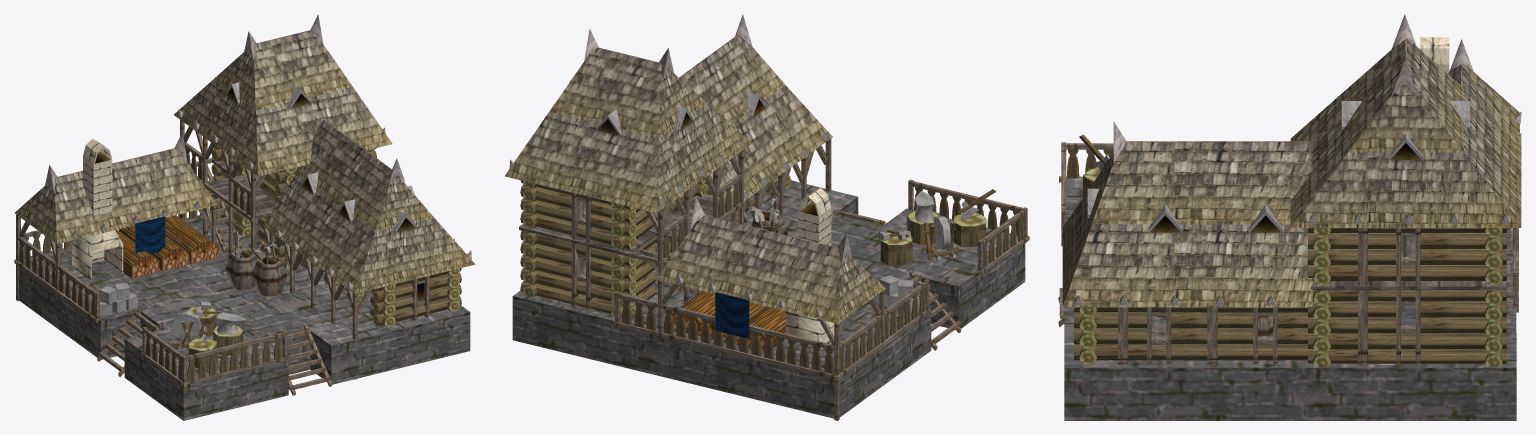
Rendered from forge.dae.
The picture shows the model from 3 angles, left to right: view 1: azimuth 30°, elevation 25°; view 2: azimuth 150°, elevation 25°; view 3: azimuth 270°, elevation 25°; orthographic projection. The views are drawn at different scales.
Parts seen in each view (by area): view 1: forge; view 2: forge; view 3: forge.
Boxes of the visible parts, left/top/right/bottom form: forge: left=14, top=14, right=475, bottom=420; forge: left=504, top=14, right=1029, bottom=420; forge: left=1058, top=14, right=1521, bottom=420.
Size of the model in its own units: 25.47 by 25.33 by 20.75.
